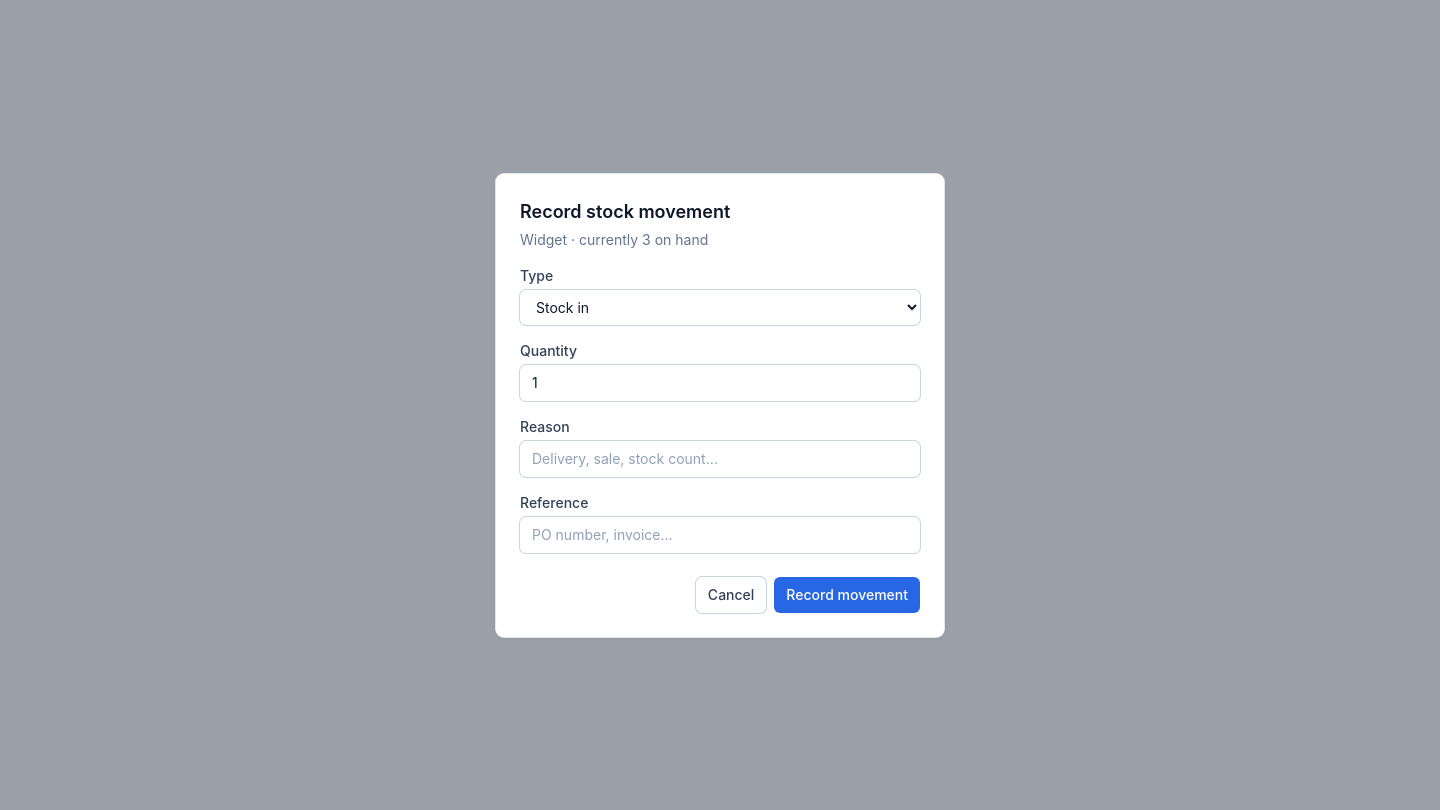
Scenario: StockMovementDialog › only offers the decrease toggle for an adjustment
Check: the field labelled "reduces stock" is not shown
Select "Adjustment" in the dropdown labelled "Type" at (720, 307), box [520,290,920,324]
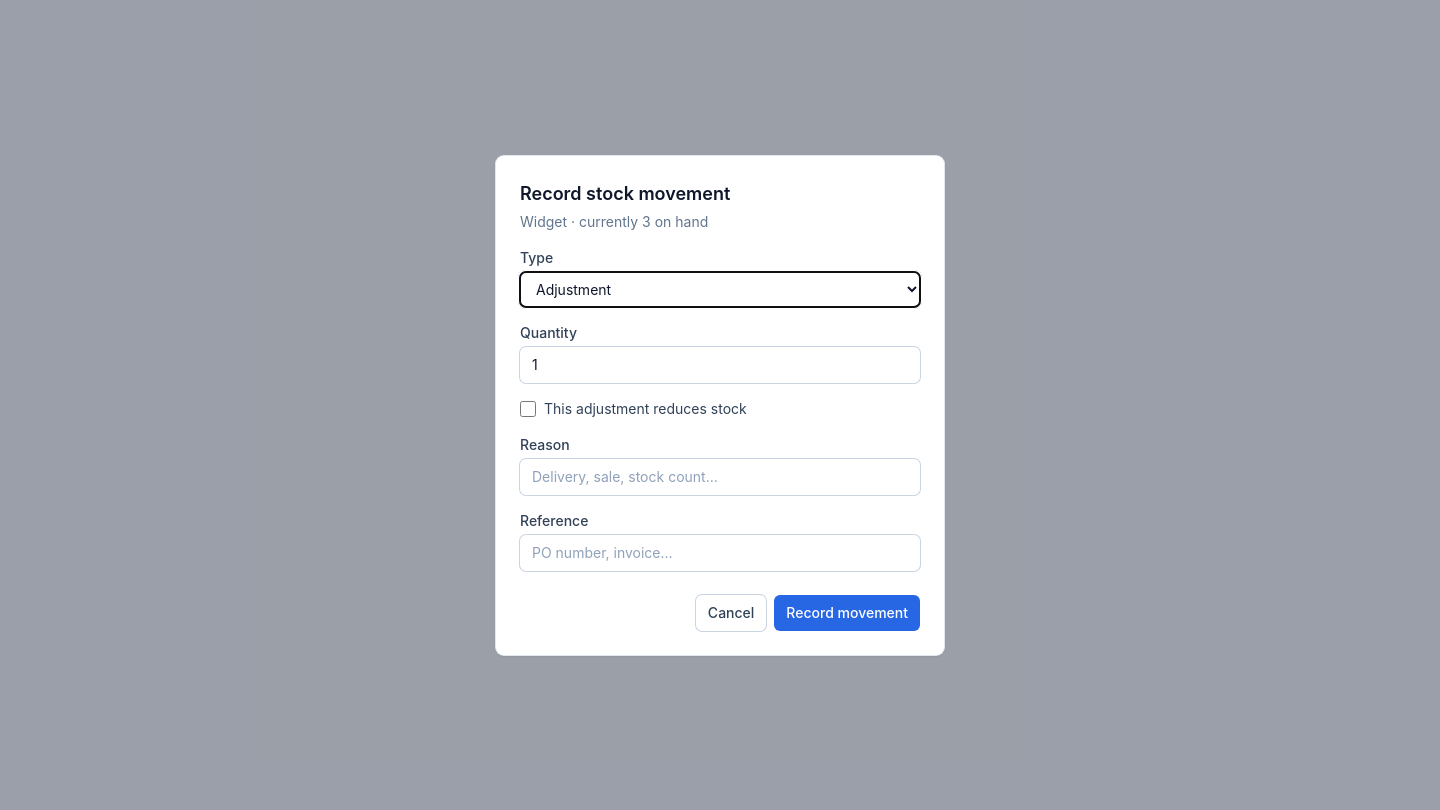
Check: the checkbox labelled "This adjustment reduces stock" is shown, box [520,400,536,416]
